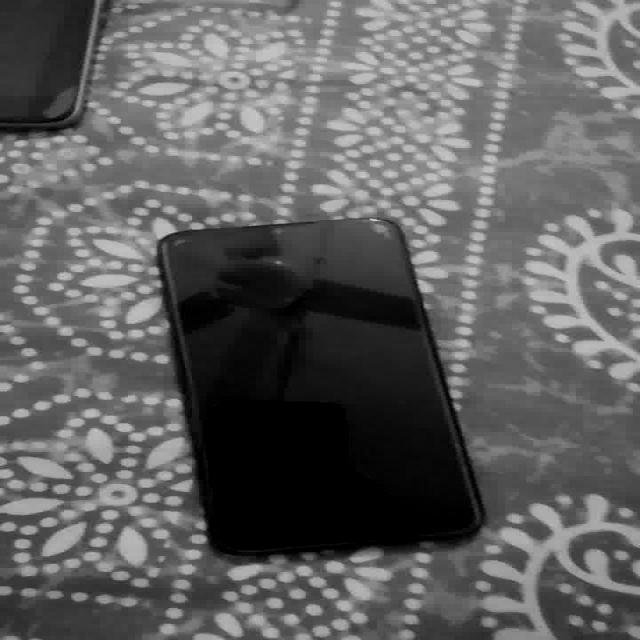fake: (160, 212, 477, 540), (2, 0, 100, 122)
